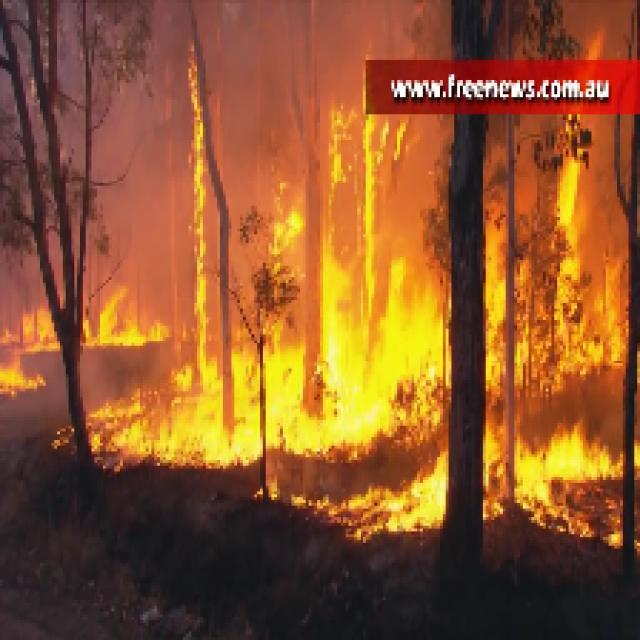Fire: (266, 263, 446, 448), (537, 117, 620, 383), (114, 346, 263, 458), (511, 422, 620, 538), (332, 120, 412, 252), (180, 43, 212, 340)
Smoke: (92, 11, 175, 246), (225, 2, 348, 94)
